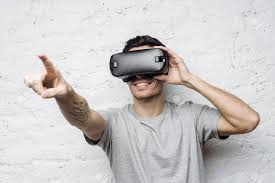oculus: (108, 49, 172, 83)
